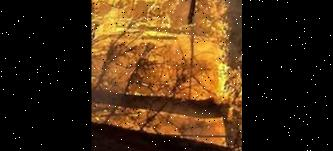fire: (91, 0, 241, 127)
